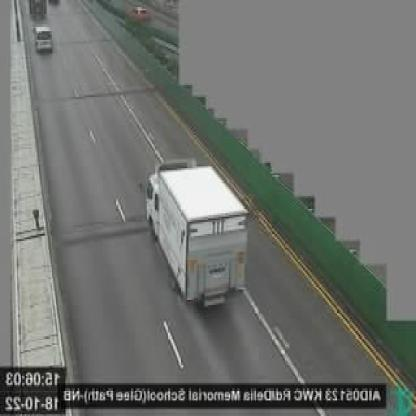Car: (32, 21, 54, 56)
Truck: (145, 160, 248, 310)
